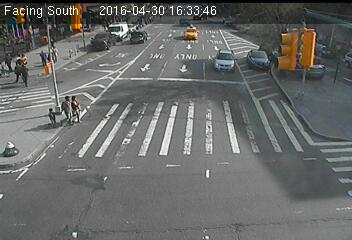neg: (246, 39, 265, 64), (115, 173, 133, 198), (286, 24, 303, 46), (214, 62, 230, 83), (310, 63, 326, 84), (114, 45, 129, 66), (39, 180, 54, 200), (164, 112, 177, 129), (280, 160, 293, 177), (26, 110, 39, 127), (322, 145, 334, 162), (260, 117, 272, 133), (65, 10, 77, 26), (198, 145, 209, 160), (126, 93, 137, 107), (227, 214, 238, 228), (109, 10, 119, 24), (180, 183, 190, 197), (172, 60, 182, 73), (185, 22, 193, 33), (143, 11, 151, 22), (104, 152, 111, 162), (334, 39, 340, 47), (14, 137, 19, 145), (323, 114, 328, 121)
pos: (64, 93, 86, 122), (57, 95, 76, 121), (16, 63, 33, 87), (42, 105, 58, 126), (35, 46, 51, 67), (47, 44, 61, 63), (13, 60, 25, 76), (17, 50, 27, 63), (13, 51, 22, 63)
